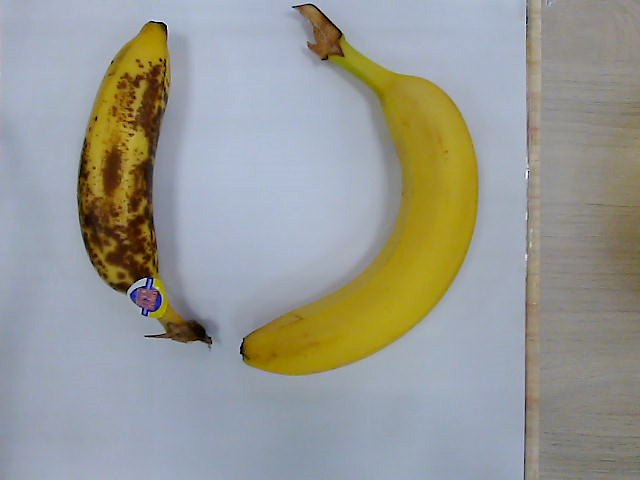fresh_banana: (242, 4, 481, 376)
rotten_banana: (77, 22, 214, 349)
